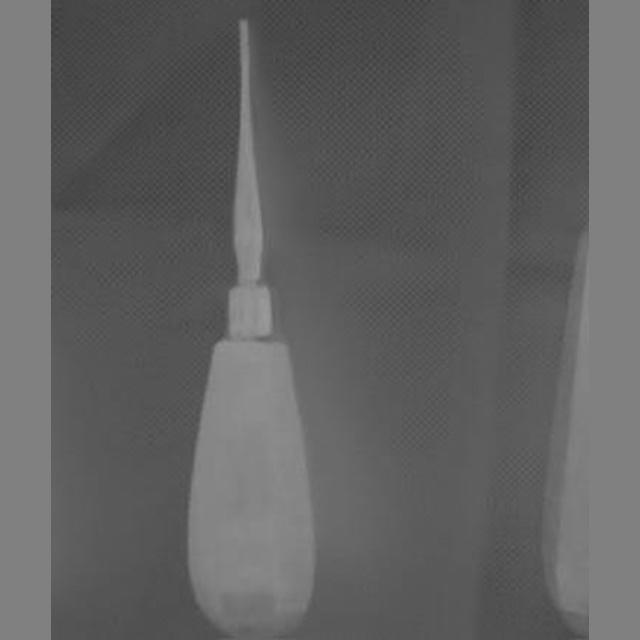botador: (187, 19, 317, 633)
